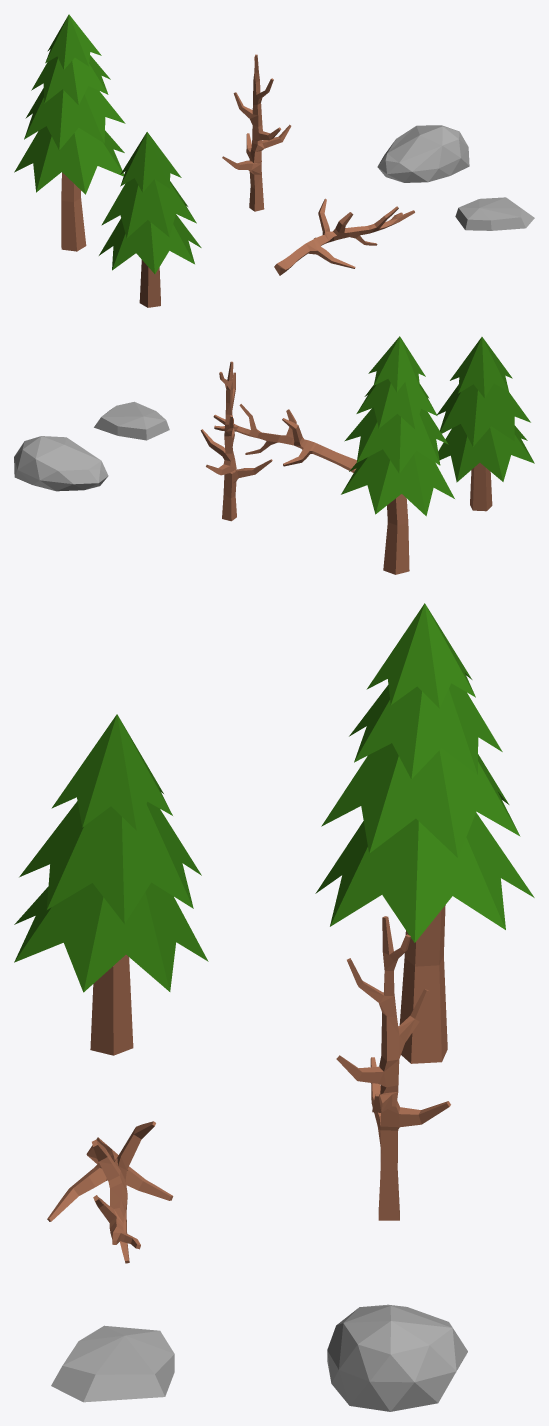
File: low_poly_nature_pack.glb
The picture shows the model from 3 angles, top to bottom: view 1: azimuth 30°, elevation 25°; view 2: azimuth 150°, elevation 25°; view 3: azimuth 270°, elevation 25°; orthographic projection. The views are drawn at different scales.
Parts seen in each view (by area): view 1: Cylinder, Cylinder.002, Icosphere, Plane.001, Plane.002, Cone; view 2: Cylinder, Cylinder.002, Icosphere, Plane.001, Plane.002, Cone; view 3: Cylinder, Cylinder.002, Icosphere, Plane.001, Cone, Plane.002.
Boxes of the visible parts, x1,y1,x2,y2 form: Cylinder: (14, 14, 125, 251); Cylinder.002: (99, 132, 201, 307); Icosphere: (377, 125, 469, 182); Plane.001: (222, 54, 291, 211); Plane.002: (274, 198, 414, 275); Cone: (455, 197, 534, 230); Cylinder: (341, 336, 454, 574); Cylinder.002: (437, 337, 534, 511); Icosphere: (14, 436, 108, 491); Plane.001: (200, 361, 272, 521); Plane.002: (213, 404, 356, 472); Cone: (94, 401, 169, 440); Cylinder: (315, 603, 534, 1063); Cylinder.002: (14, 714, 208, 1055); Icosphere: (327, 1304, 467, 1411); Plane.001: (336, 916, 450, 1220); Cone: (51, 1325, 174, 1402); Plane.002: (47, 1121, 173, 1263).
Bounding box in the file's own units: 11.73 × 6.02 × 6.35.
